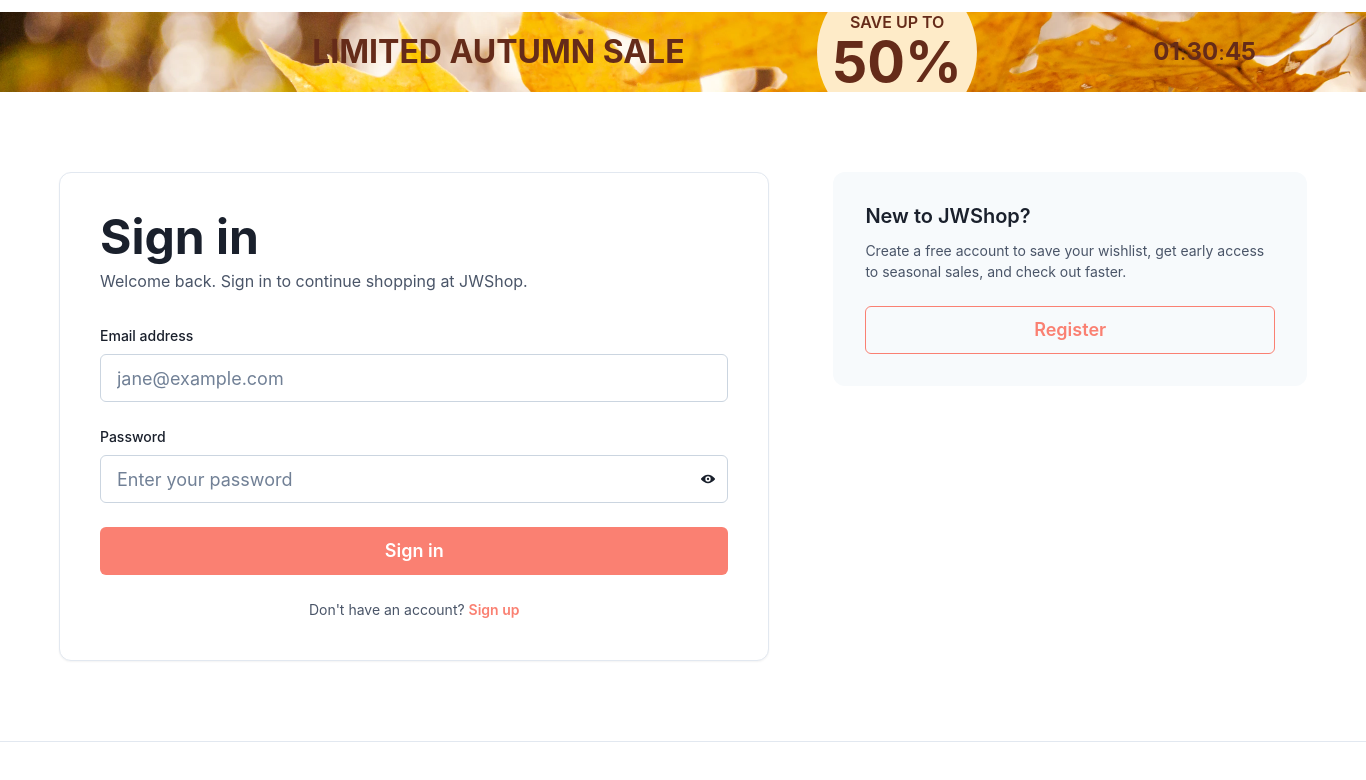
LoginPage component › shows an error for an invalid email on blur
In the field labelled "Email address": (414, 378) [100,354,728,402], type "not-an-email"
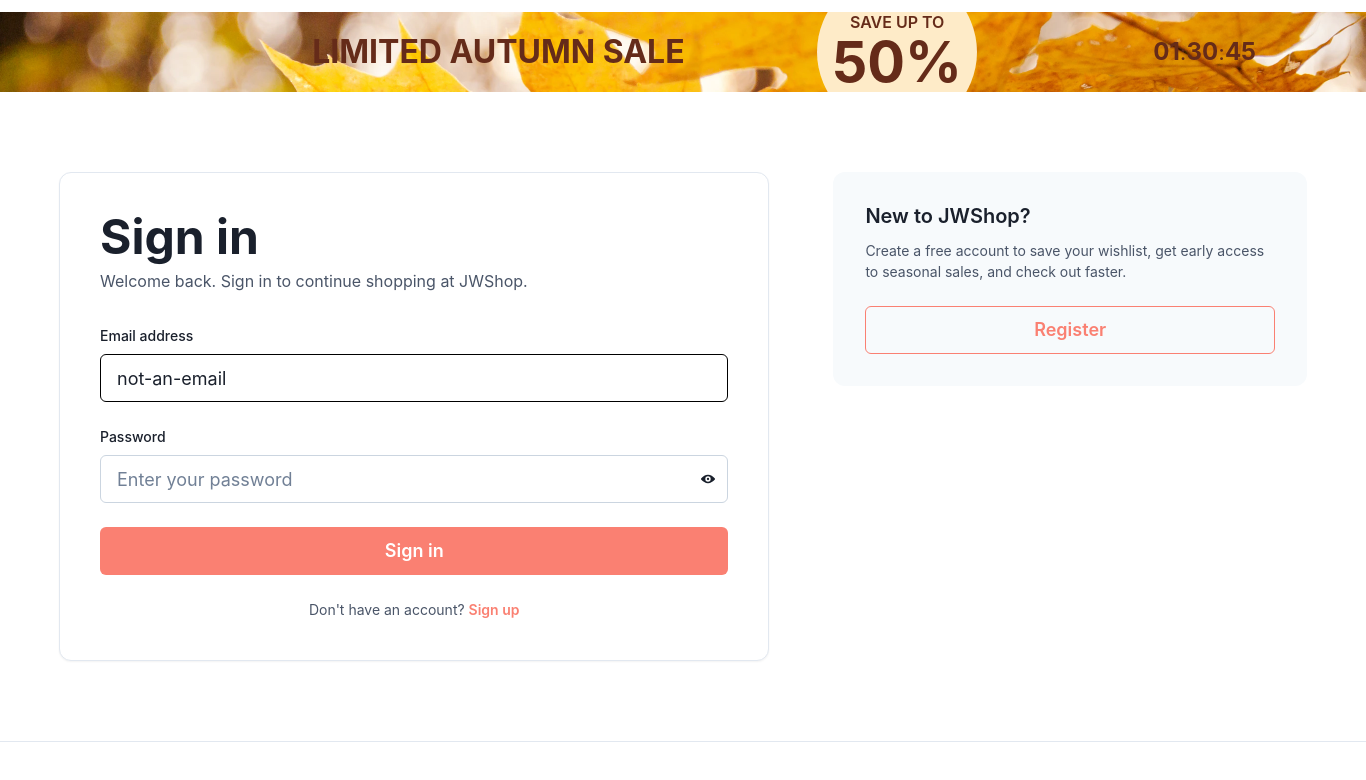
Press Tab
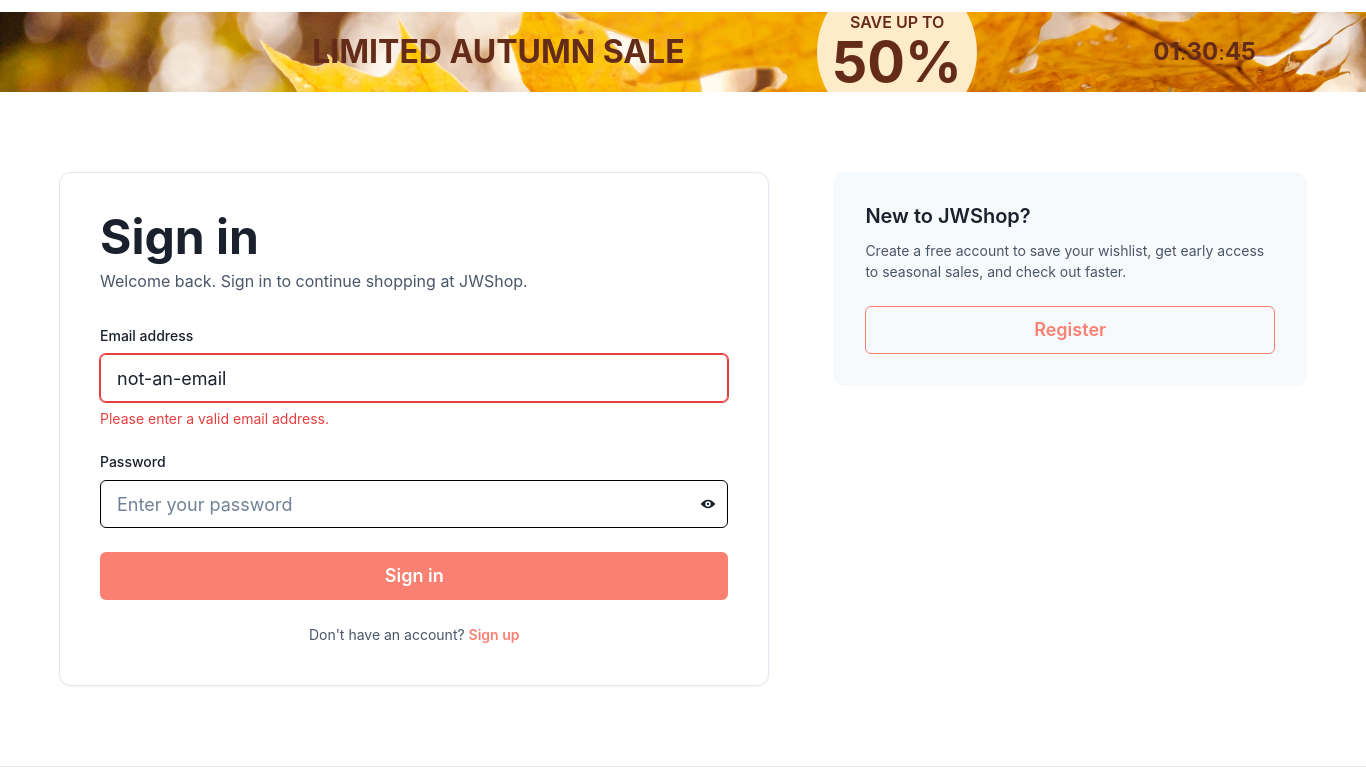
Now the text "Please enter a valid email address." is shown, box [100,410,329,427]
